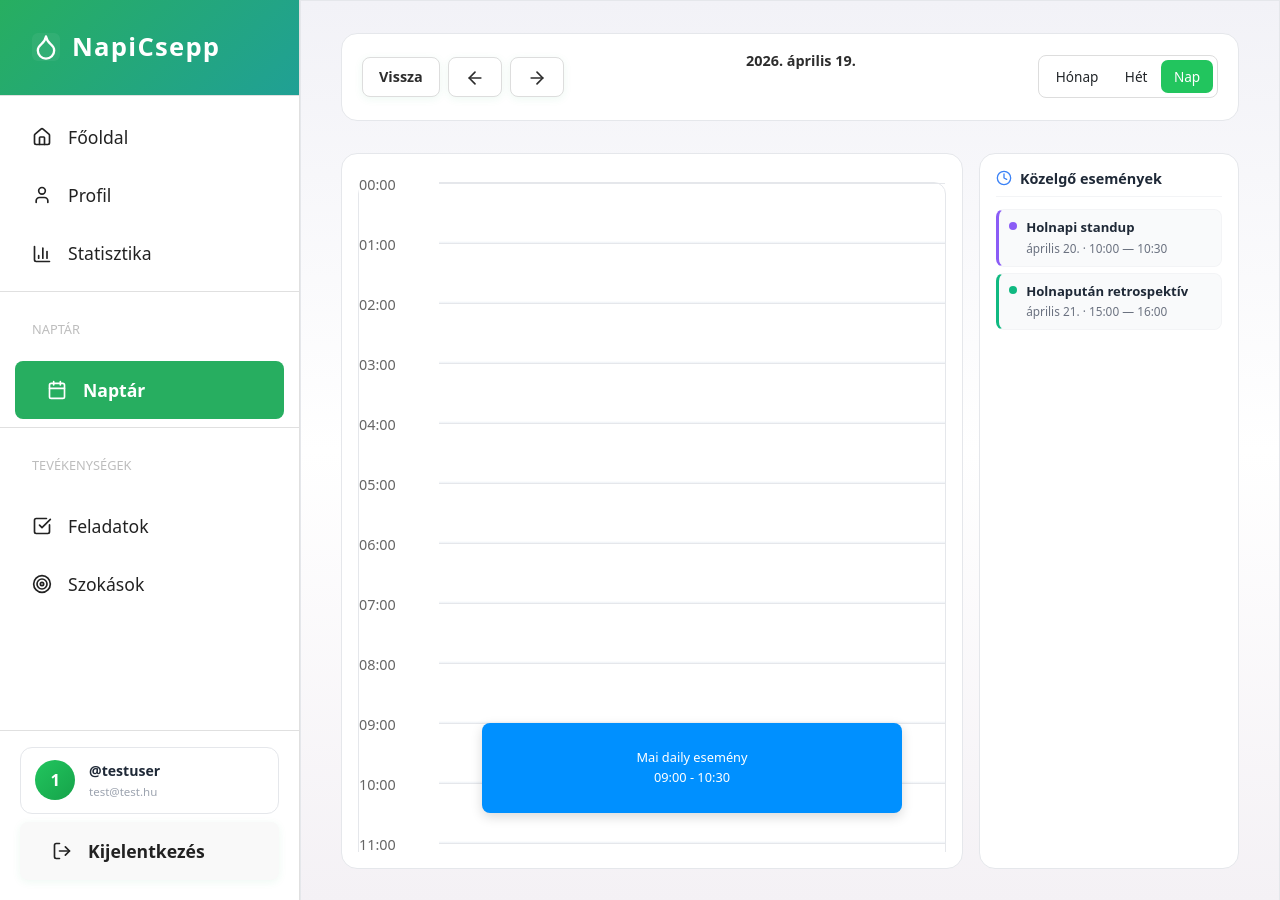
Scenario: Daily View — Esemény blokk megjelenés › 9 - Mini popup Bezár gomb bezárja a popupot
Click the element with class "event-block-daily" at (692, 768), box [482, 723, 902, 813]
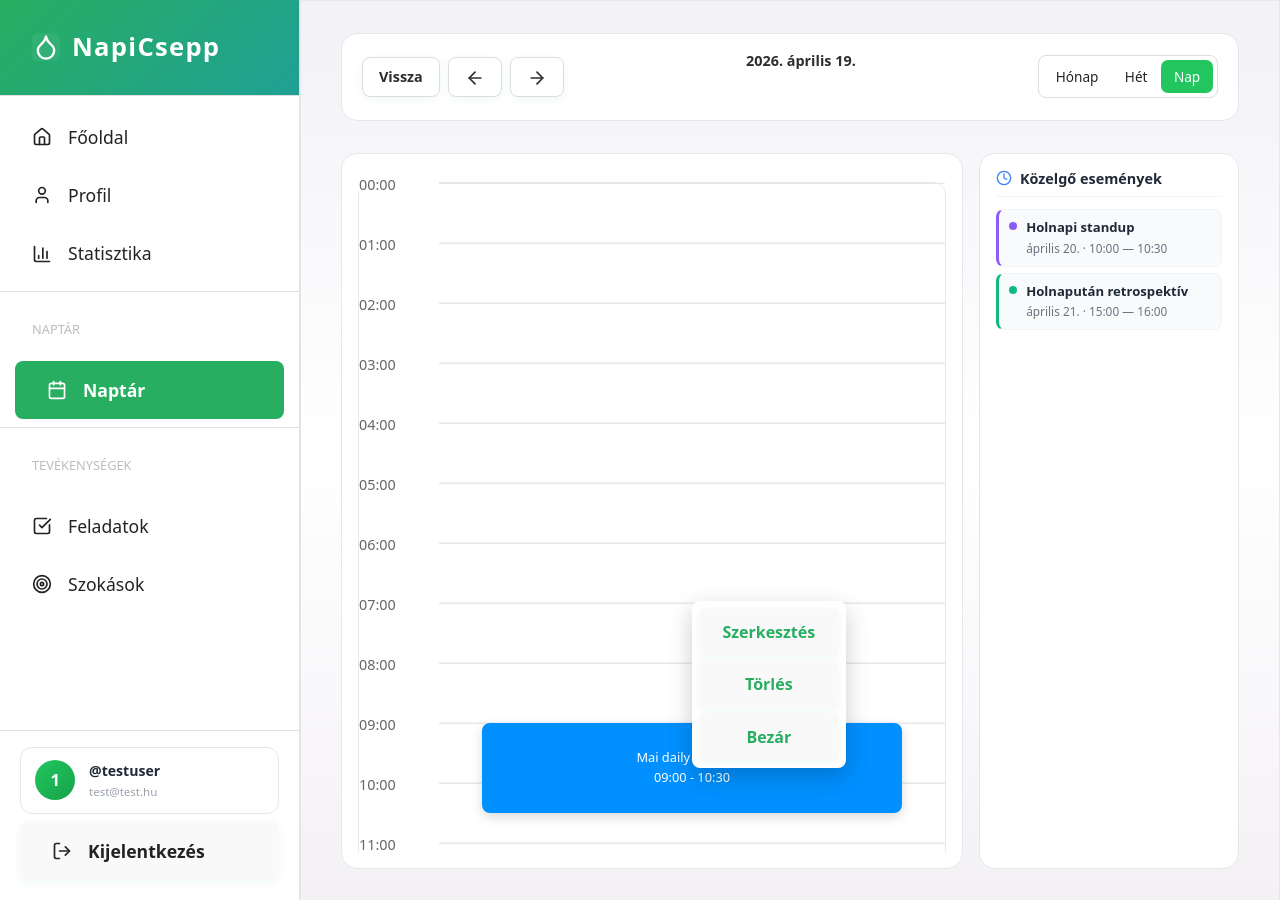
Expected: the element with class "mini-popup" is shown, [692, 601, 846, 768]
Click the button "Bezár" at (769, 737), box [700, 714, 838, 760]
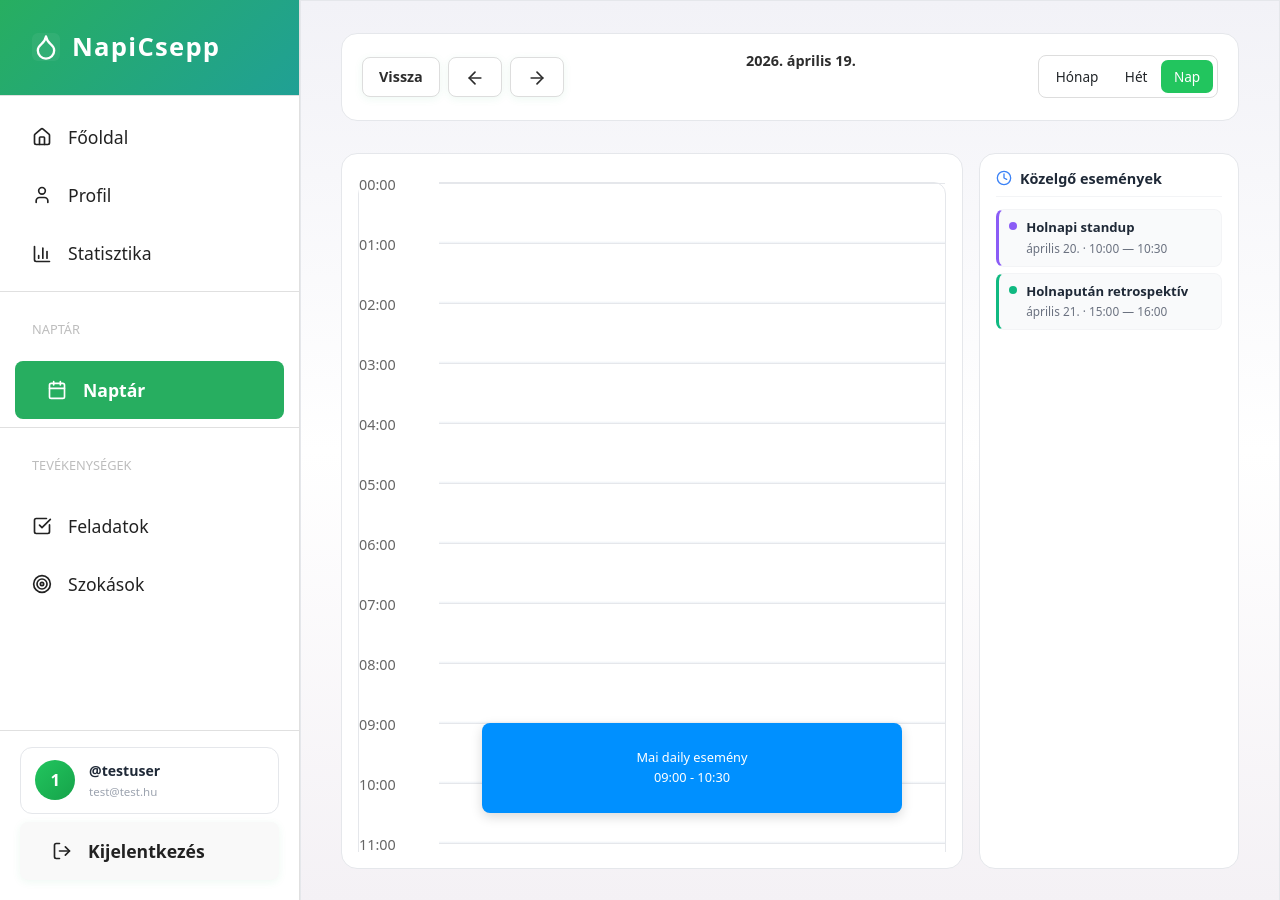
Expected: the element with class "mini-popup" is gone
